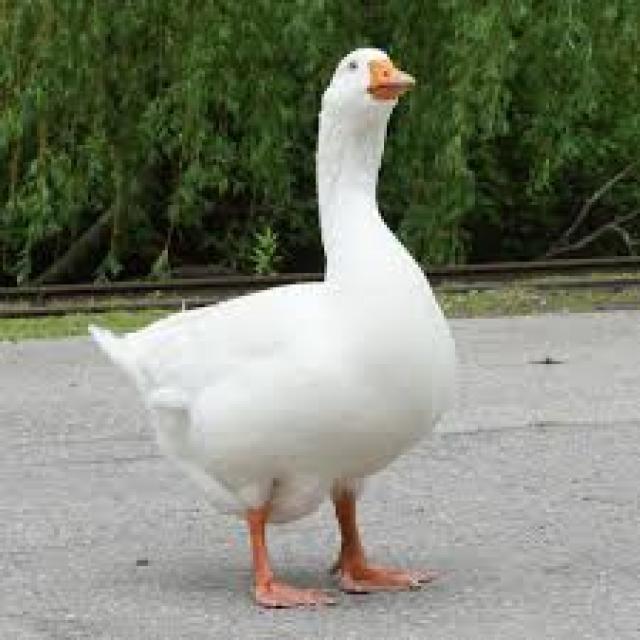Goose: (112, 29, 465, 601)
